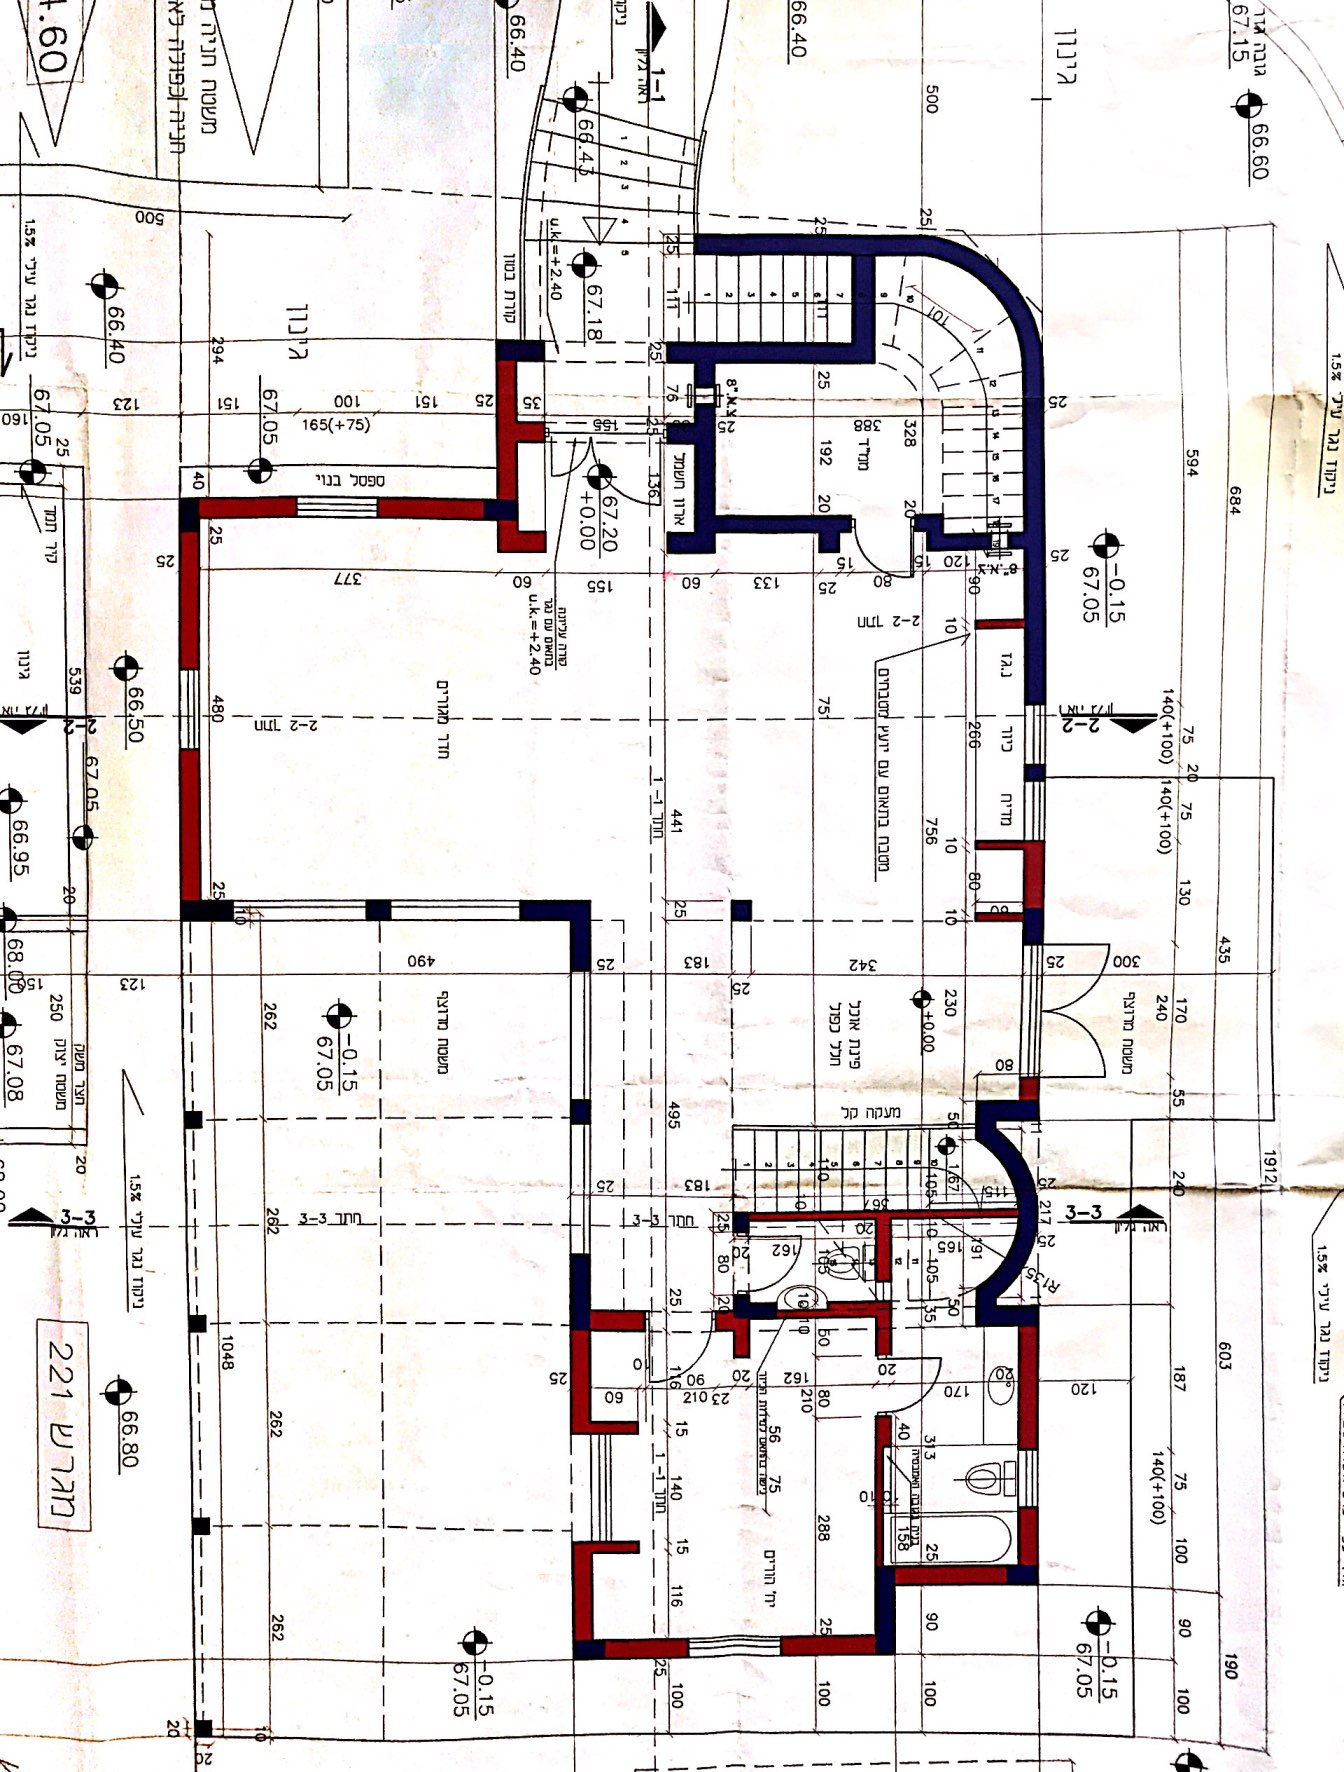door: (638, 1331, 719, 1384), (896, 1350, 952, 1418), (752, 1231, 808, 1298), (850, 537, 920, 585)
wall: (569, 1252, 592, 1435), (875, 1567, 1039, 1584), (572, 1540, 594, 1659)
window: (390, 899, 520, 922), (1021, 945, 1043, 1074), (234, 899, 366, 921), (570, 971, 592, 1101), (570, 1124, 592, 1254), (296, 497, 378, 520), (179, 671, 202, 753), (690, 1638, 784, 1656), (1015, 1450, 1040, 1507), (1024, 782, 1046, 842), (1024, 707, 1046, 767)
